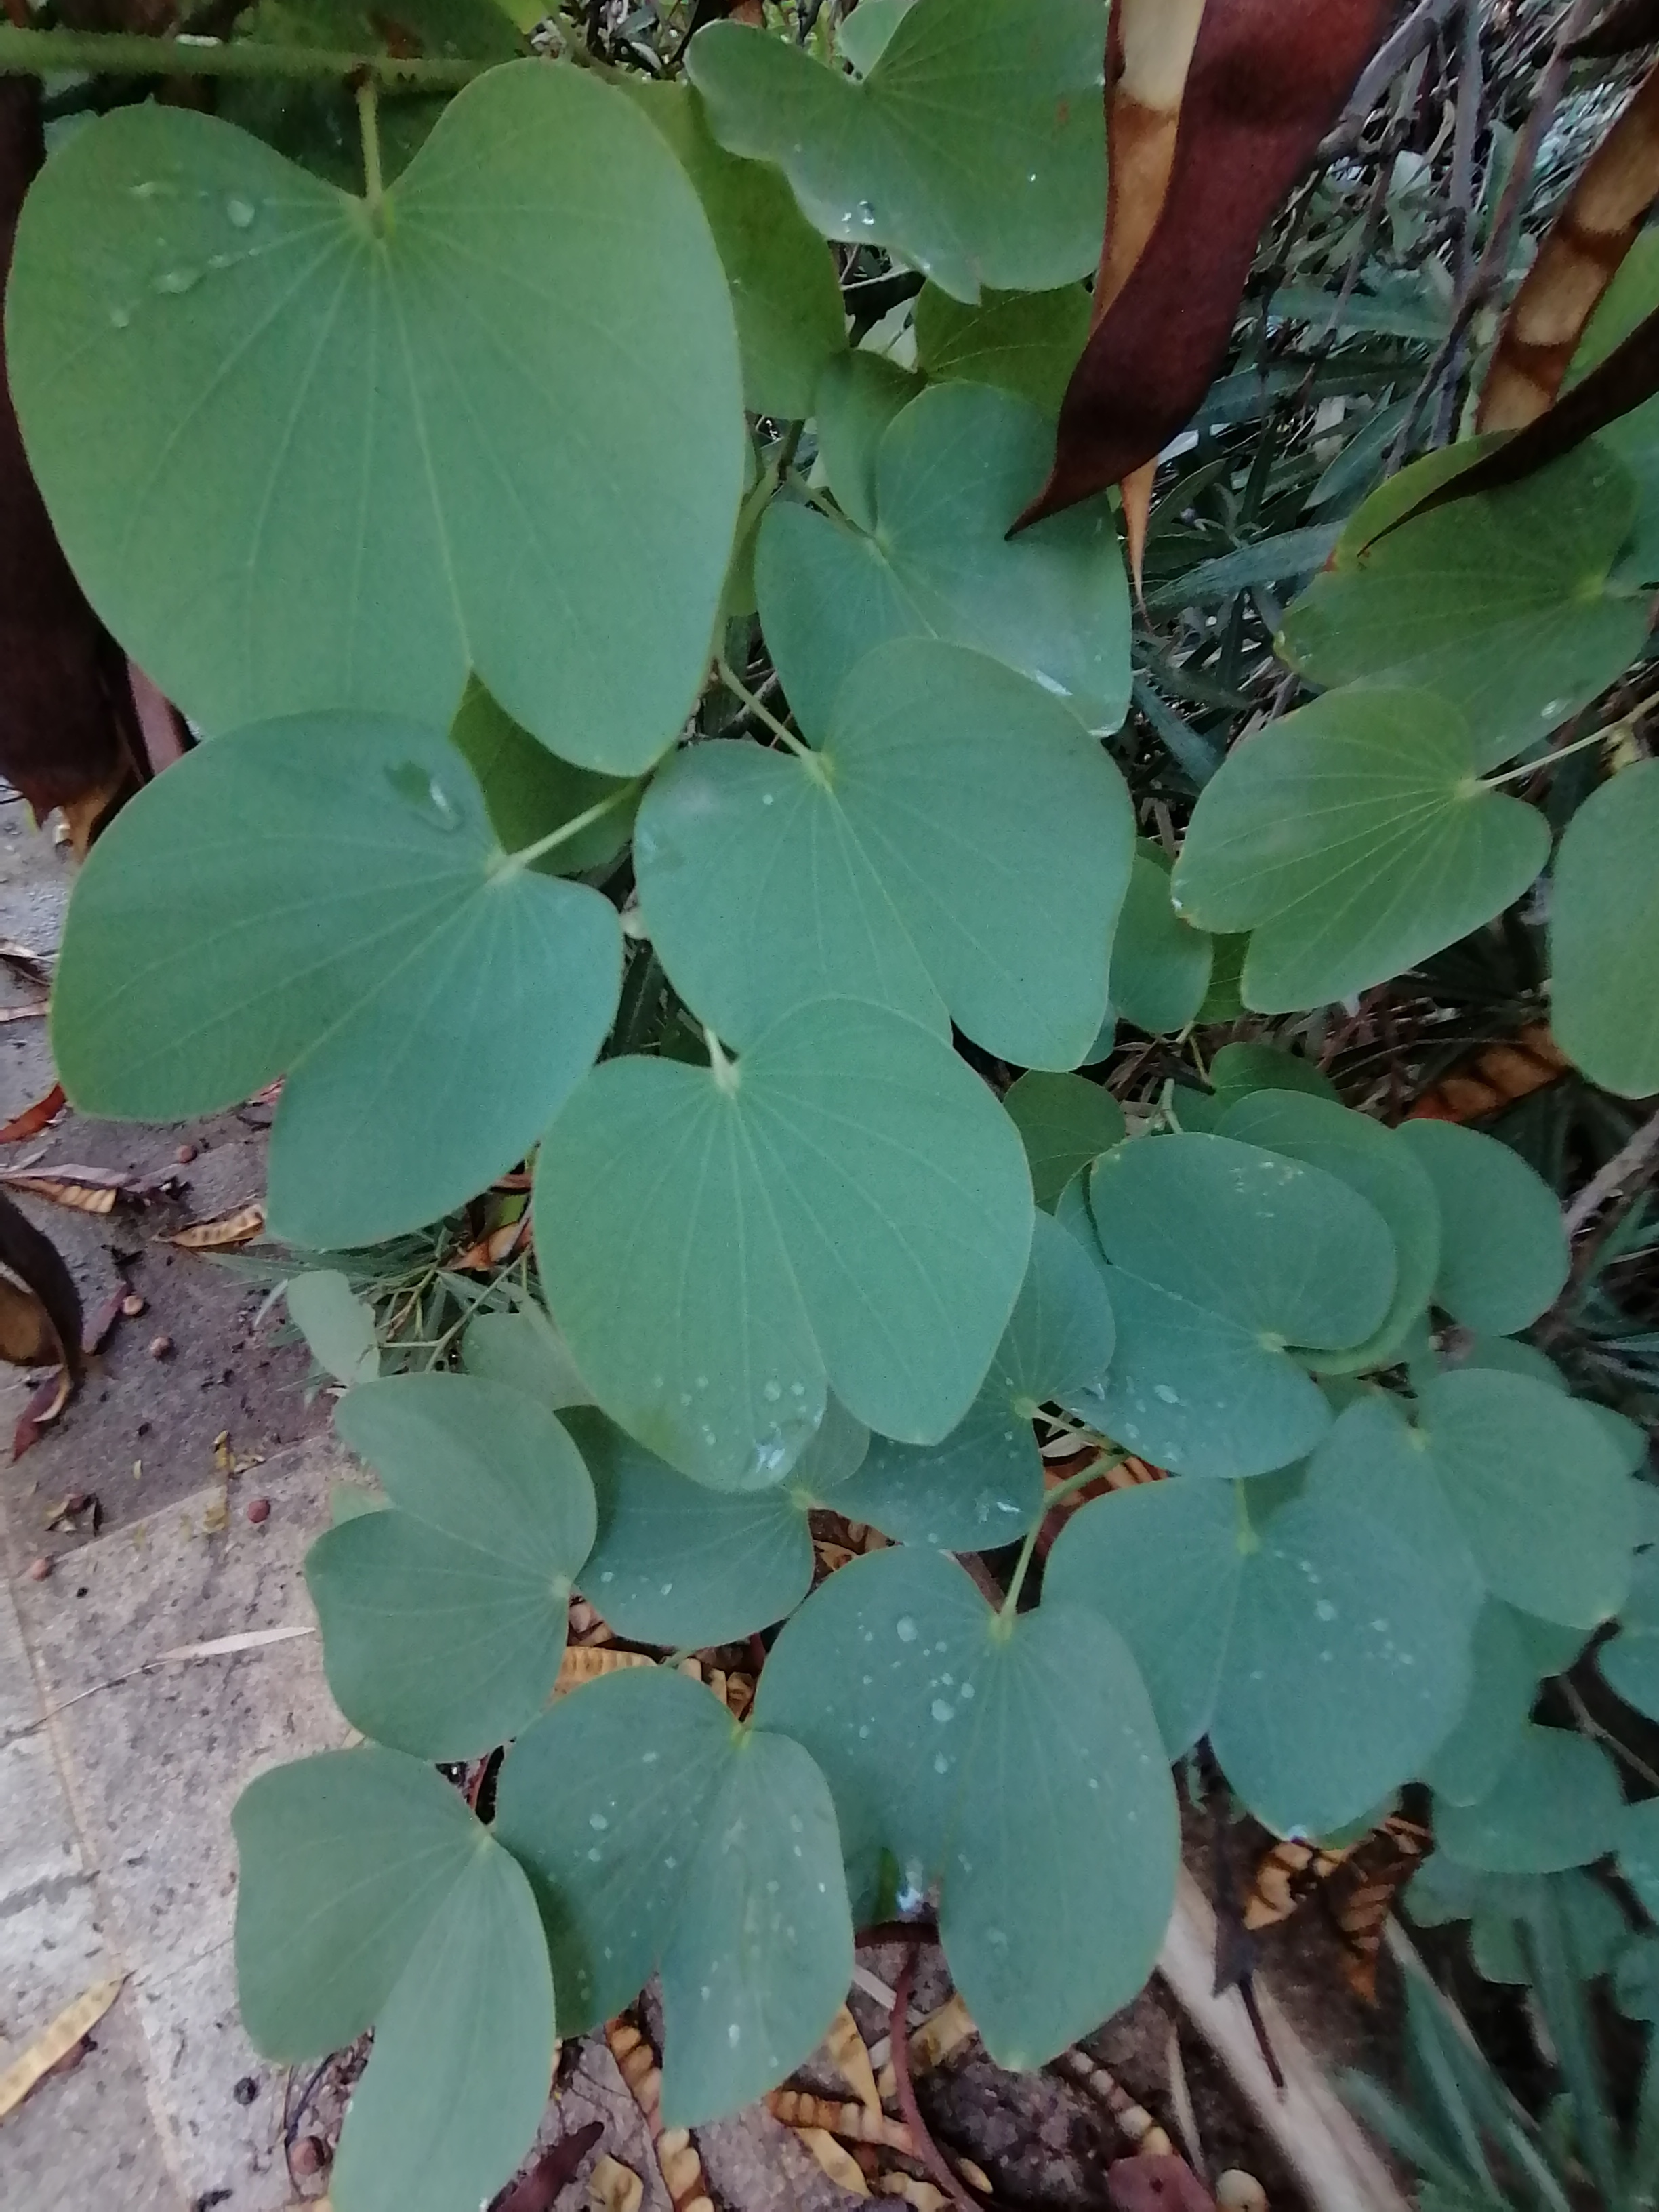healthy: (16, 47, 688, 759), (33, 723, 751, 1216), (638, 610, 1199, 1092), (566, 996, 1066, 1468), (763, 1594, 1237, 2036), (178, 1709, 566, 2202), (518, 1696, 863, 2139), (1058, 1109, 1363, 1515), (1162, 705, 1553, 979), (314, 1386, 613, 1733)
